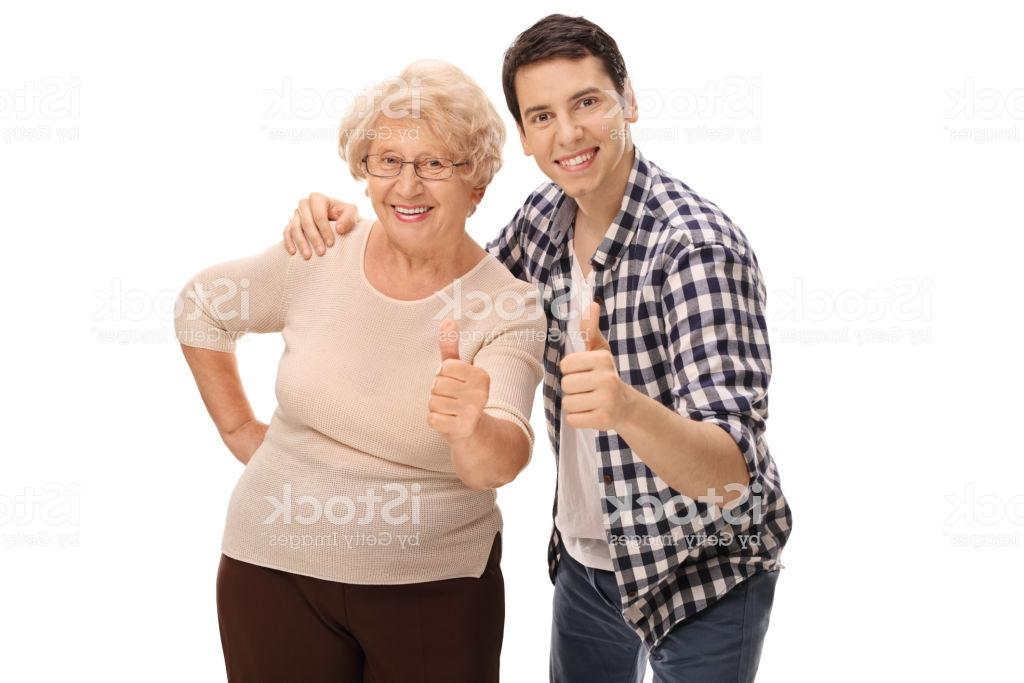thumbsup: (556, 300, 623, 436), (426, 319, 496, 444)
